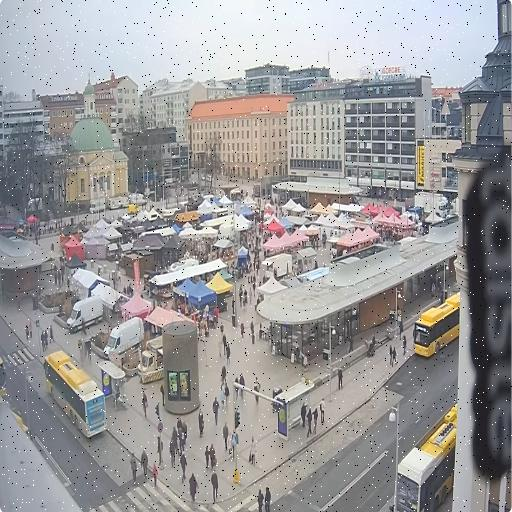bus: (396, 403, 457, 511), (44, 351, 106, 437), (413, 293, 460, 357), (0, 358, 6, 397)
delivery: (104, 318, 143, 358), (67, 297, 102, 332), (138, 337, 163, 383)
